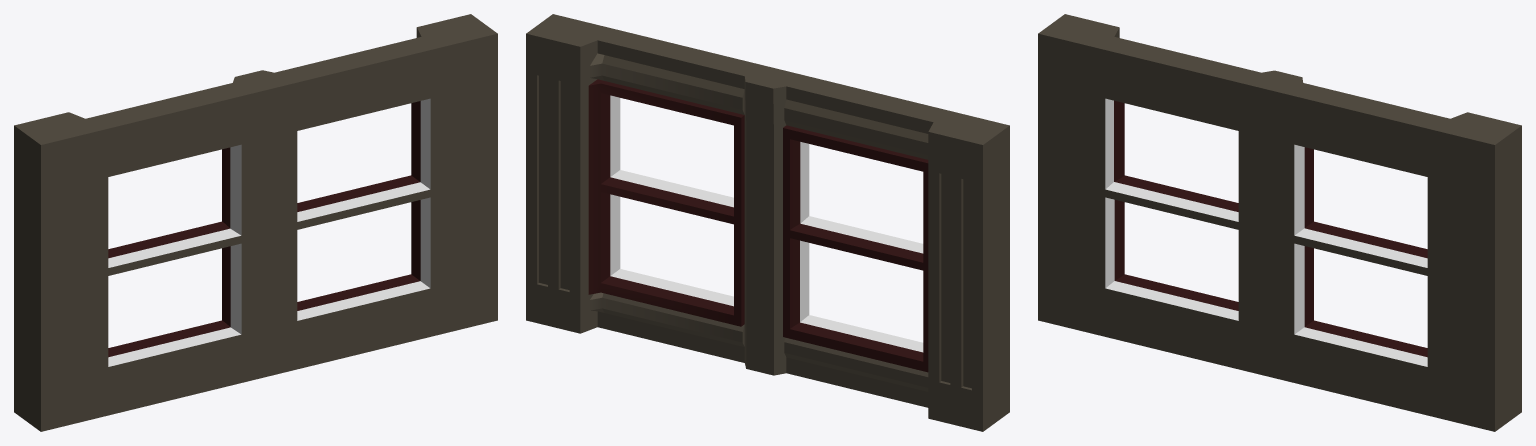
Rendered from P_F_OLDType4SansW.fbx.
3 renders of one model, left to right at view 1: azimuth 30°, elevation 25°; view 2: azimuth 150°, elevation 25°; view 3: azimuth 330°, elevation 25°, orthographic.
Visible parts, largest first — view 1: P_F_OLDType4SansW; view 2: P_F_OLDType4SansW; view 3: P_F_OLDType4SansW.
Boxes of the visible parts, x1,y1,x2,y2 form: P_F_OLDType4SansW: (14, 14, 497, 431); P_F_OLDType4SansW: (526, 14, 1009, 431); P_F_OLDType4SansW: (1038, 14, 1521, 431).
Bounding box in the file's own units: 500 × 300 × 50.86.
